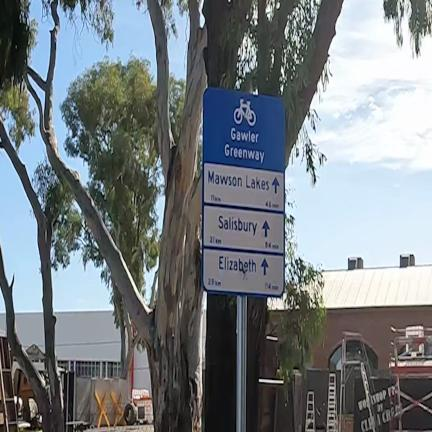Bike_Sign: (201, 87, 285, 432)
